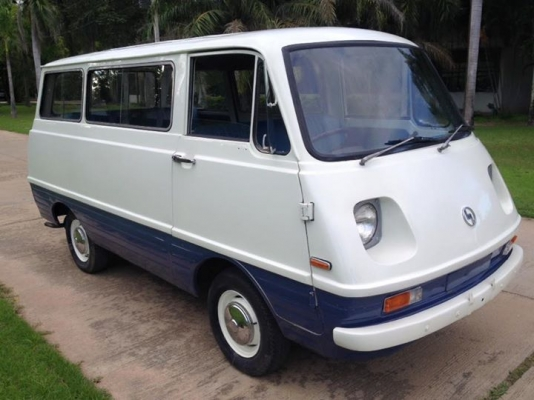van: (25, 24, 525, 373)
